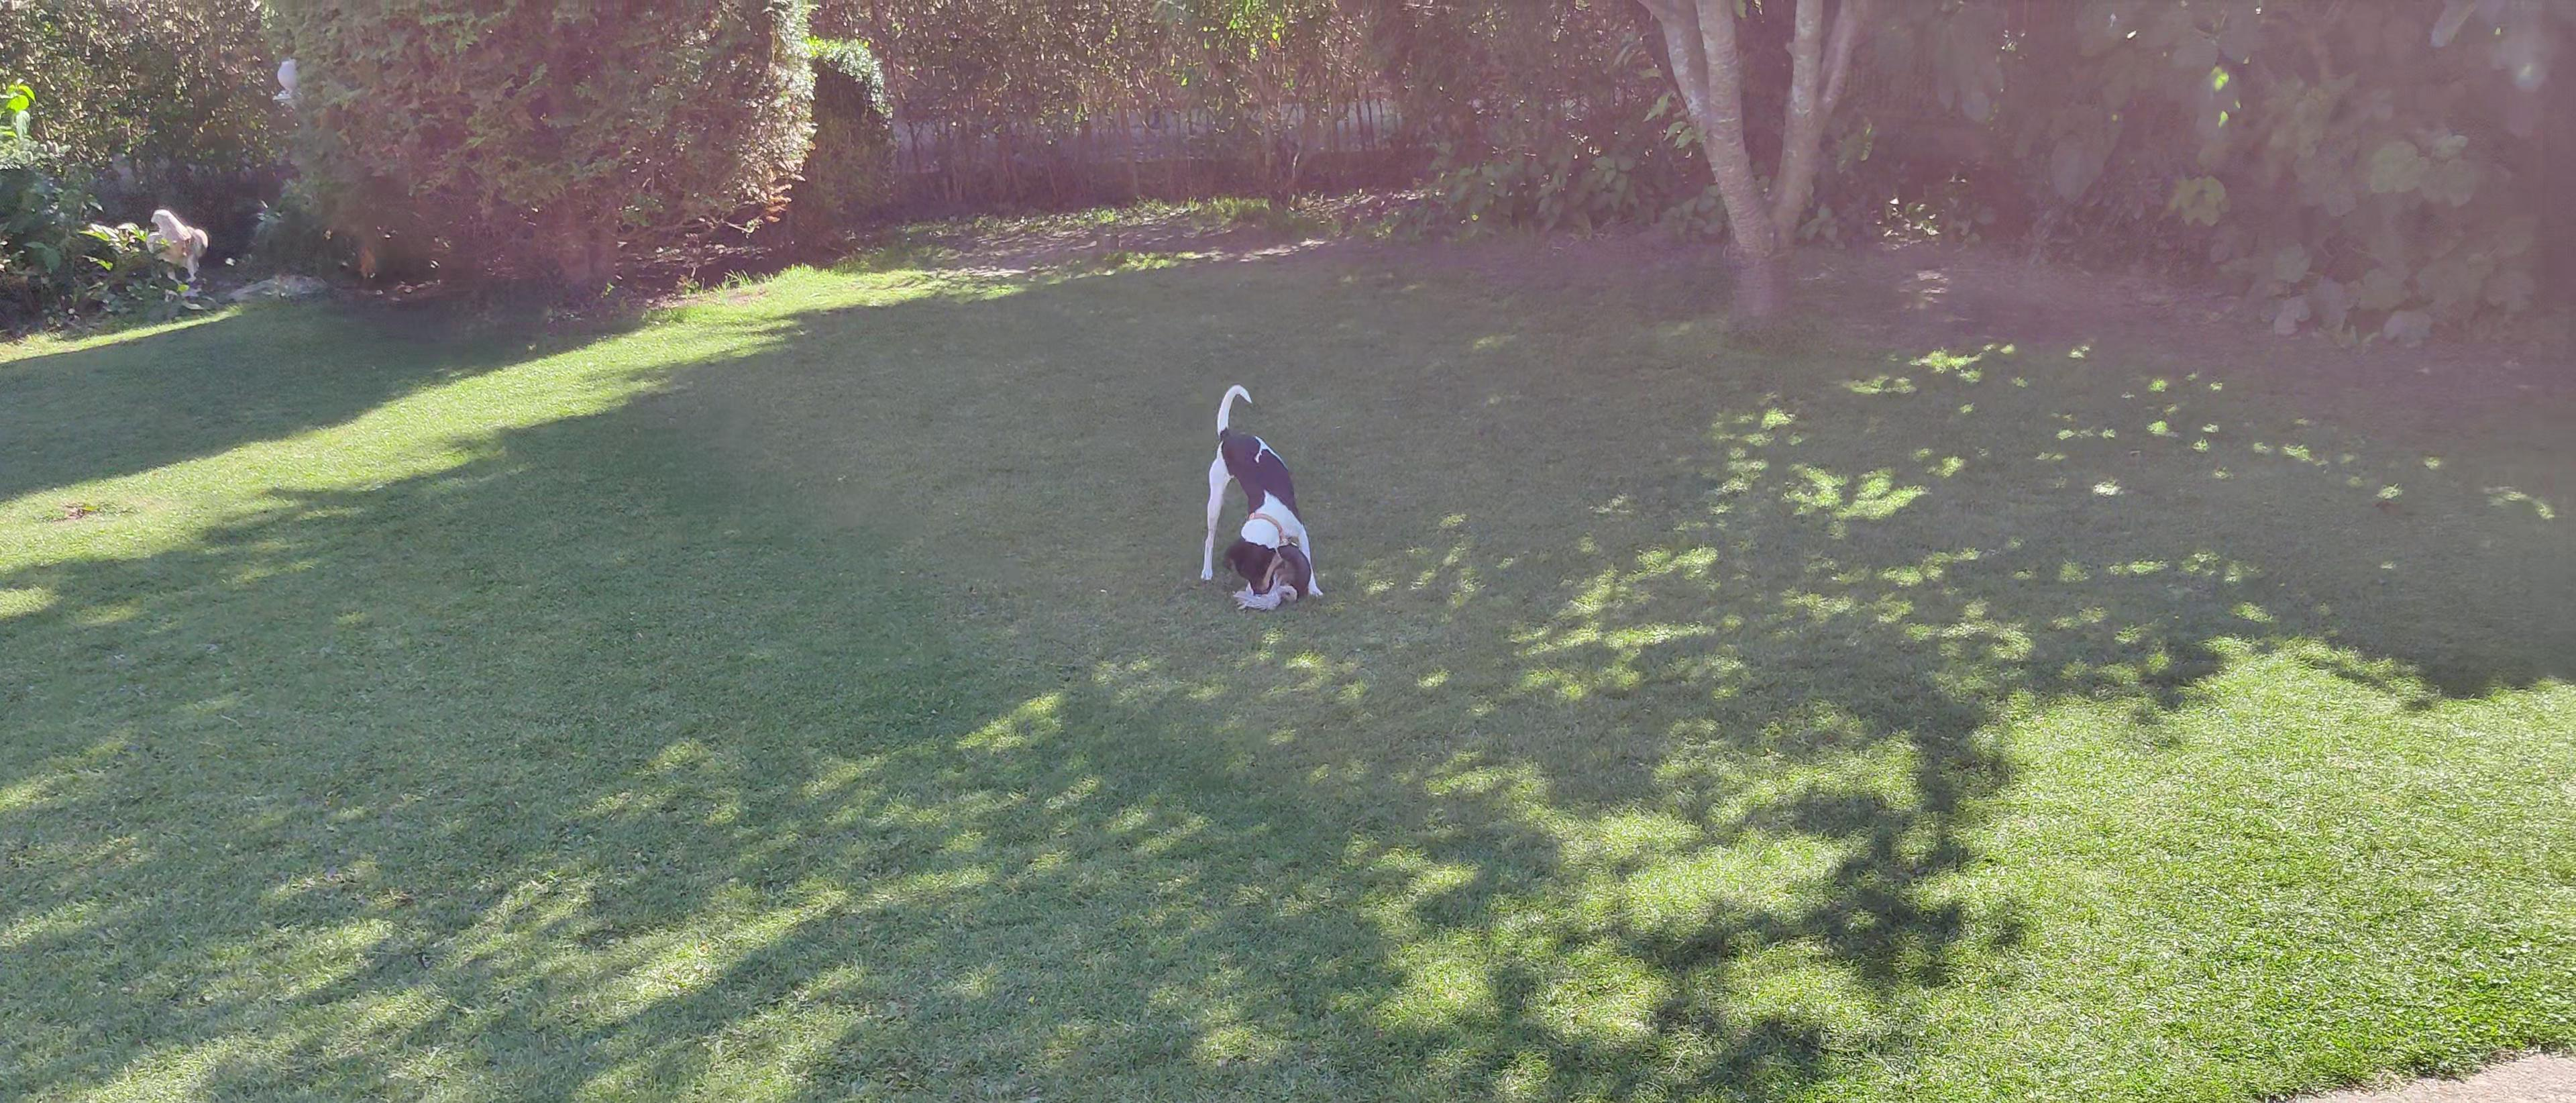Dog: (1180, 380, 1342, 607)
